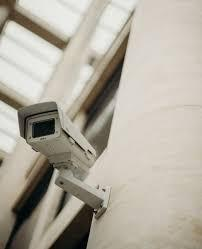Monitor: (10, 83, 145, 221)
